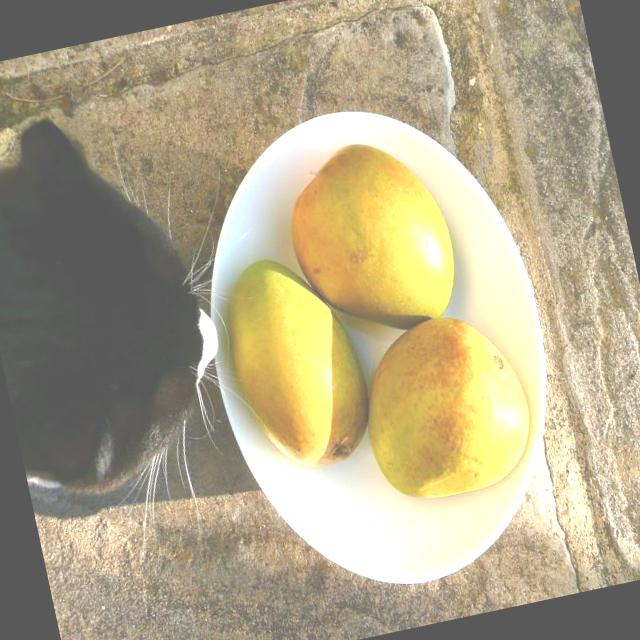Mango: (274, 127, 466, 348), (346, 301, 543, 510), (213, 243, 380, 480)
